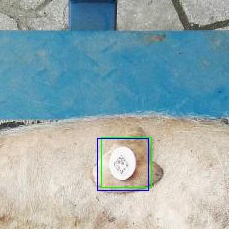text: (101, 137, 151, 187)
